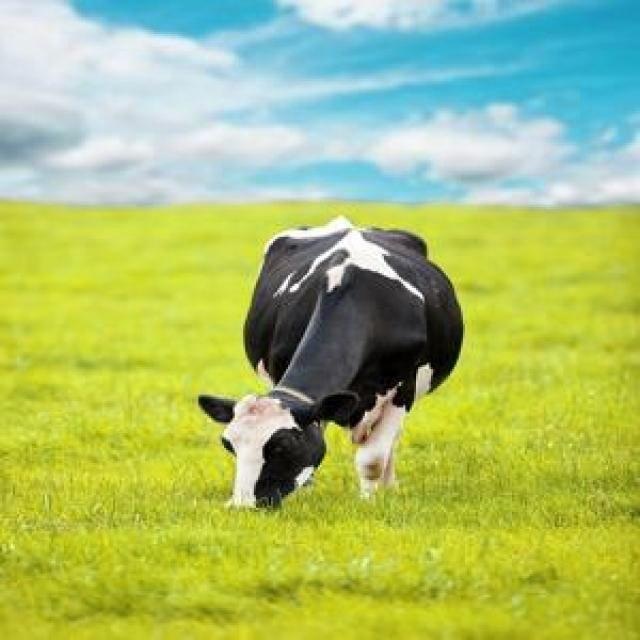cow: (199, 218, 462, 507)
